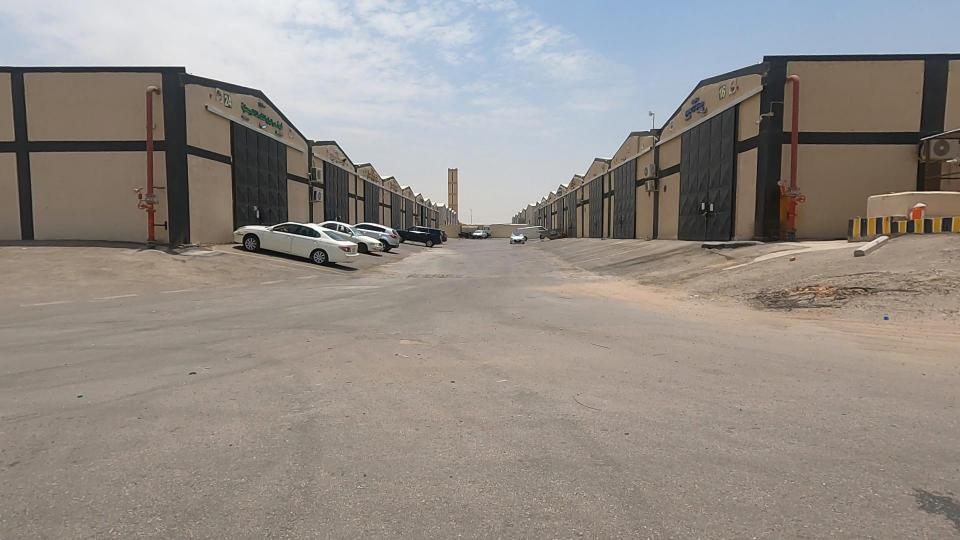POTHOLES: (718, 251, 916, 360), (375, 247, 492, 305)
